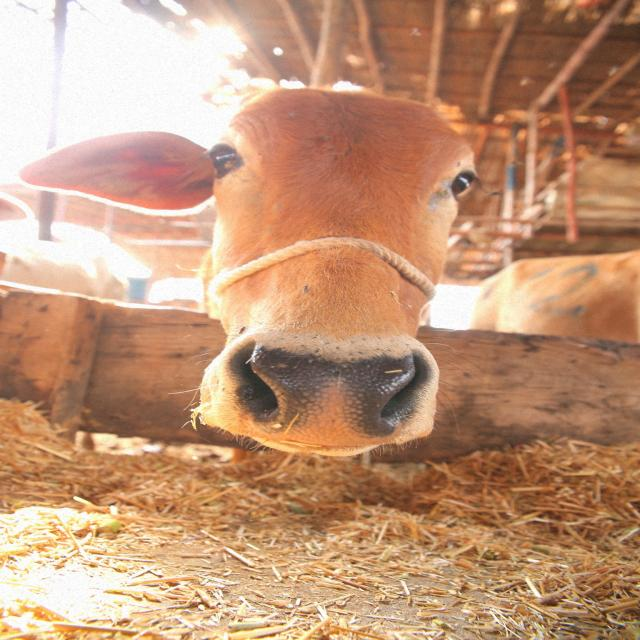muzzles: (217, 332, 446, 447)
